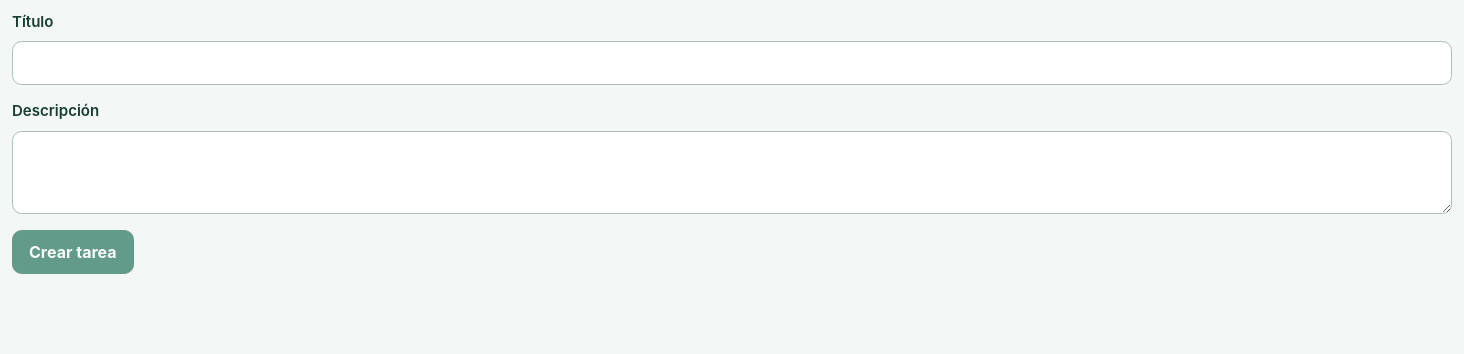
Scenario: TaskForm › muestra un error y conserva los datos si falla el guardado
Type "Estudiar" into the field labelled "Título" at x=732, y=63, box [12,41,1452,85]
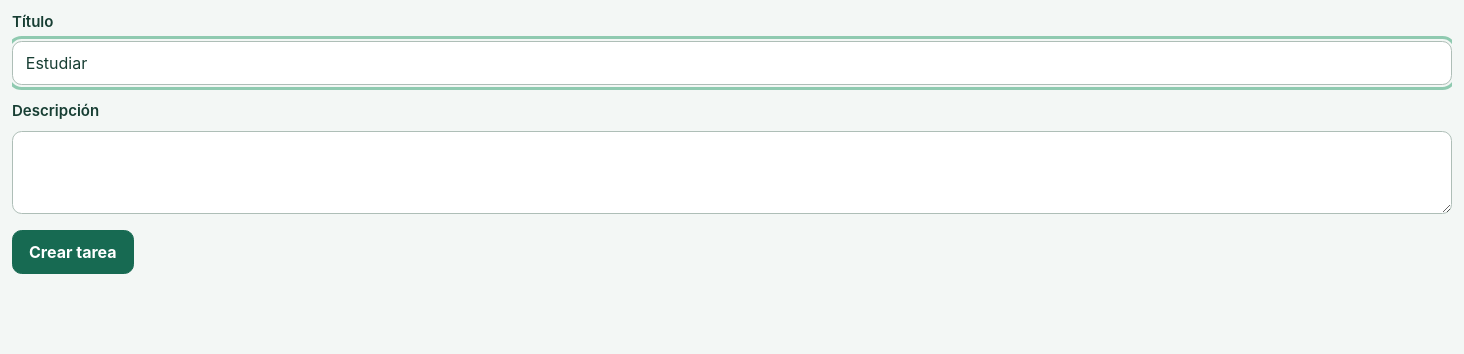
Click the button "Crear tarea" at x=73, y=252, box [12,230,134,274]
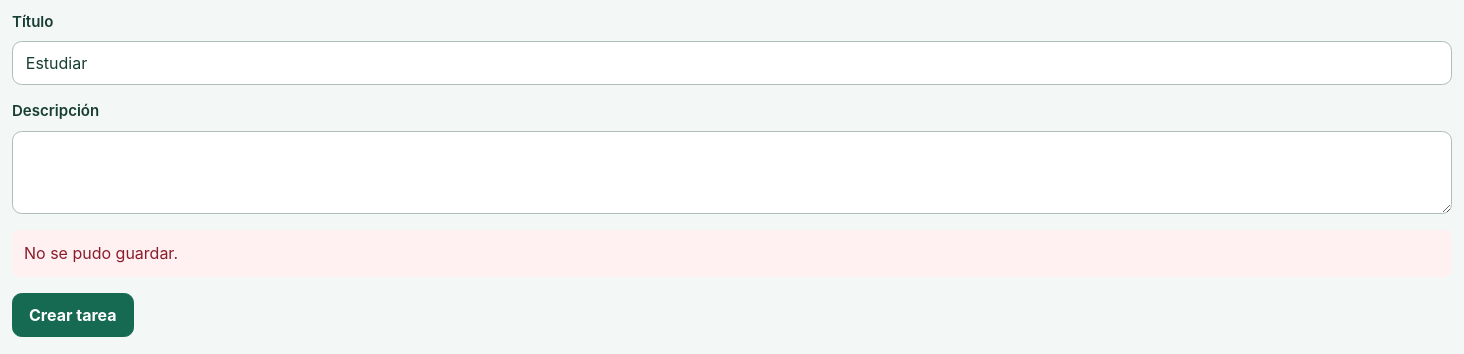
Now the message reads "No se pudo guardar.", box [24,243,178,263]
